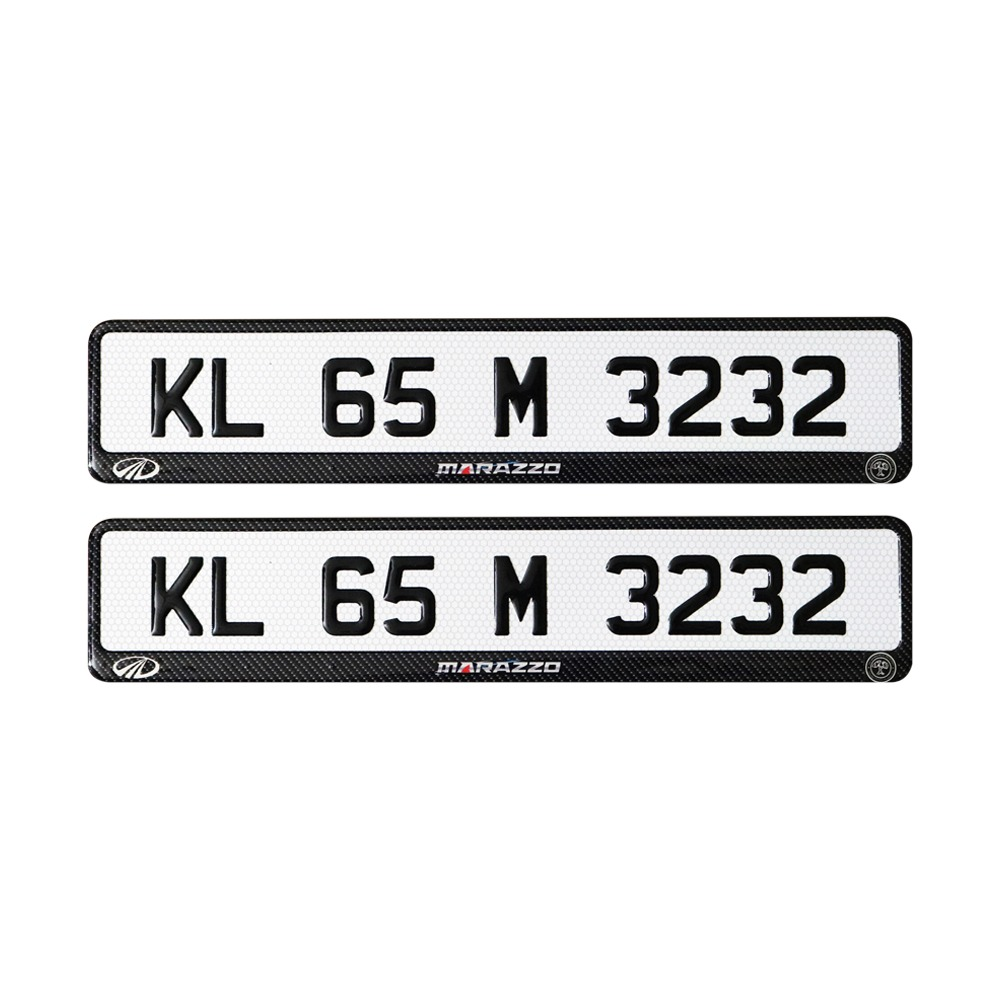number_plate: (90, 517, 917, 690), (89, 319, 912, 488)
